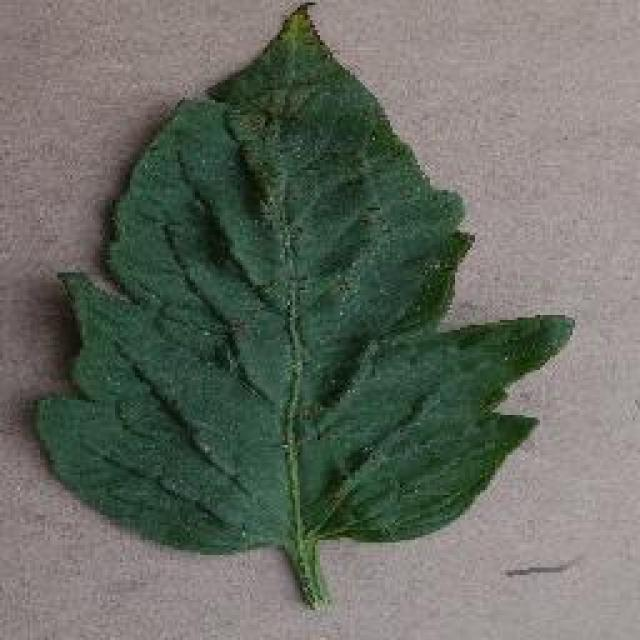Tomato___Bacterial_spot: (24, 2, 582, 610)
